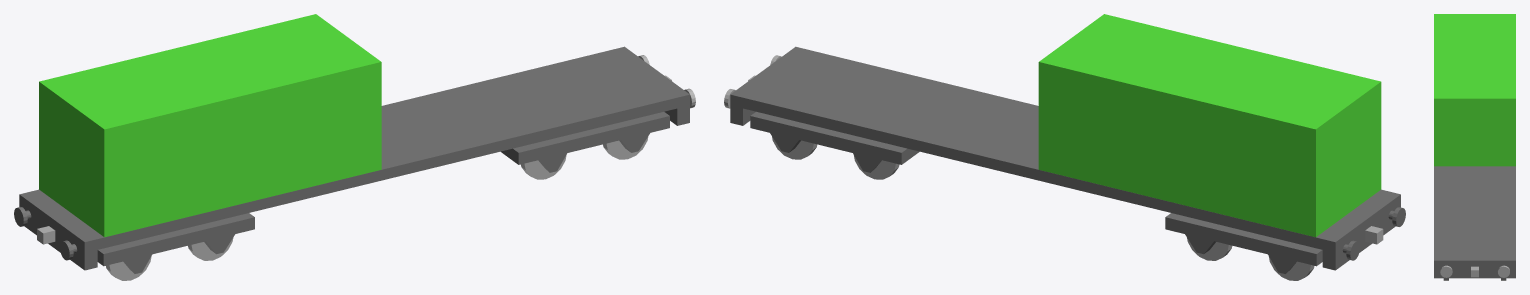
File: frigth_vehicle_02.glb
3 renders of one model, left to right at view 1: azimuth 30°, elevation 25°; view 2: azimuth 150°, elevation 25°; view 3: azimuth 270°, elevation 25°, orthographic. The views are drawn at different scales.
Visible parts, largest first — view 1: Plane; view 2: Plane; view 3: Plane.
Boxes of the visible parts, x1=… form: Plane: x1=14, y1=14, x2=695, y2=280; Plane: x1=724, y1=14, x2=1405, y2=280; Plane: x1=1434, y1=14, x2=1515, y2=280.
Bounding box in the file's own units: 11.1 × 2.78 × 2.
1 material, 1 textured.
